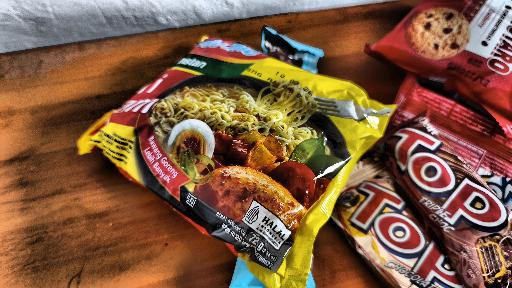indomie: (98, 21, 347, 264)
top: (381, 110, 512, 282), (332, 172, 443, 288)
